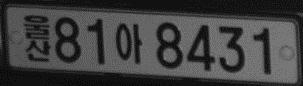1: (250, 27, 279, 75), (84, 17, 111, 65)
3: (218, 25, 245, 73)
4: (186, 24, 215, 70)
8: (155, 21, 183, 69), (53, 16, 81, 63)
아: (114, 22, 144, 64)
울산_V: (23, 14, 50, 62)
